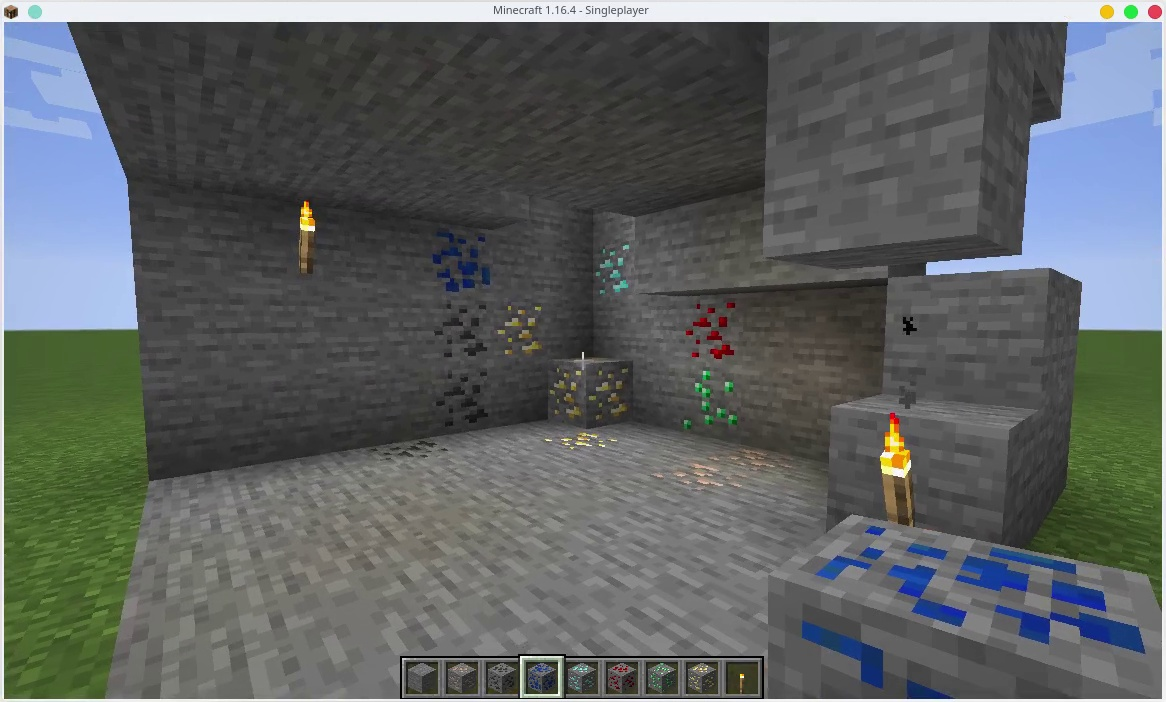gold: (547, 355, 626, 427), (496, 297, 551, 357), (546, 427, 620, 458), (685, 657, 718, 695)
